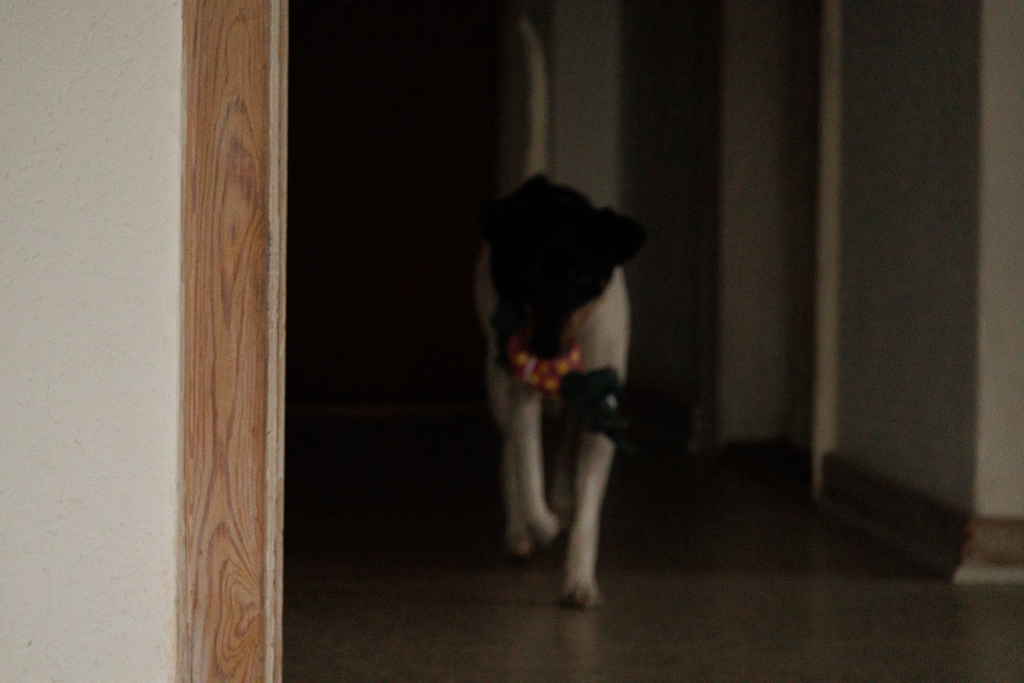Dog: (433, 7, 675, 619)
Humanoid: (483, 302, 645, 460)
